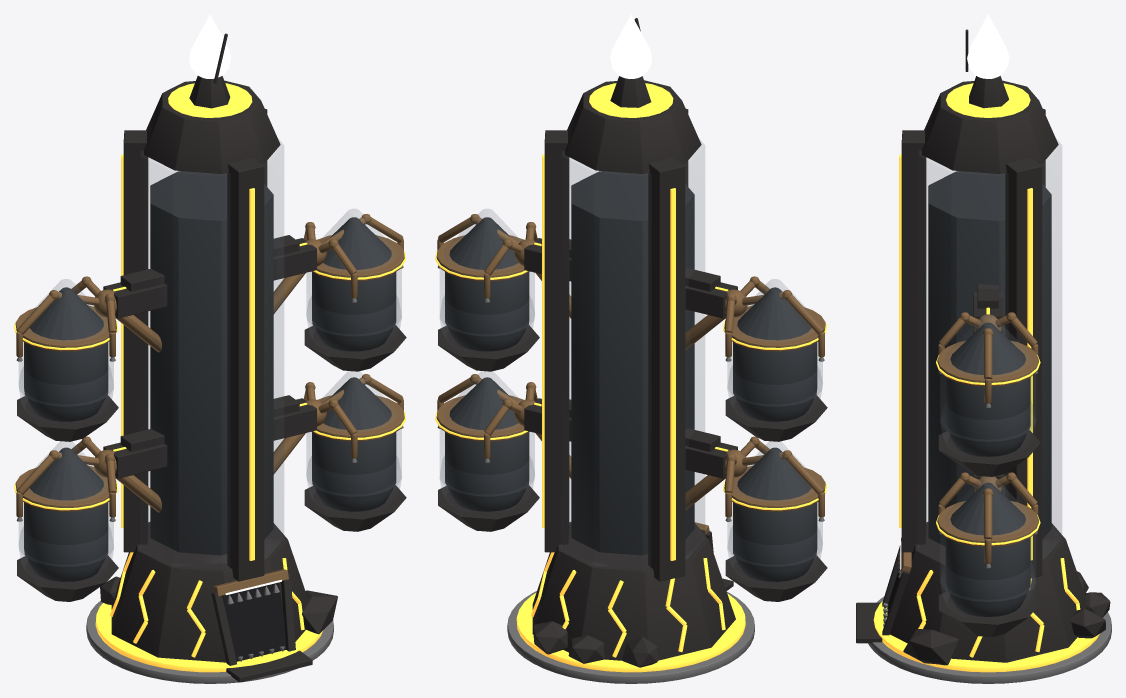
The model's file is EMBER_Vat_T4.glb.
The picture shows the model from 3 angles, left to right: view 1: azimuth 30°, elevation 25°; view 2: azimuth 150°, elevation 25°; view 3: azimuth 270°, elevation 25°; orthographic projection.
Parts seen in each view (by area): view 1: EMBER_Vat_T4; view 2: EMBER_Vat_T4; view 3: EMBER_Vat_T4.
Part boxes in pixels (bbox=[...]): EMBER_Vat_T4: bbox=[14, 14, 406, 683]; EMBER_Vat_T4: bbox=[435, 14, 827, 683]; EMBER_Vat_T4: bbox=[856, 14, 1111, 683].
Size of the model in its own units: 6.32 by 9.64 by 3.62.
